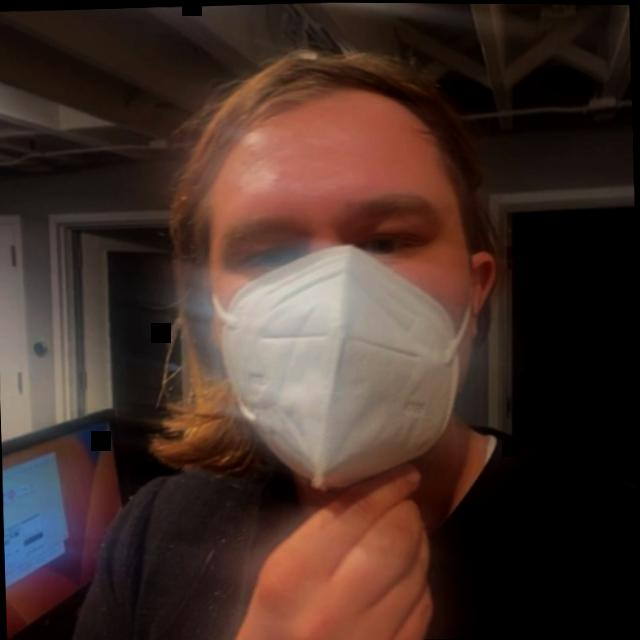Mask: (108, 7, 534, 477)
